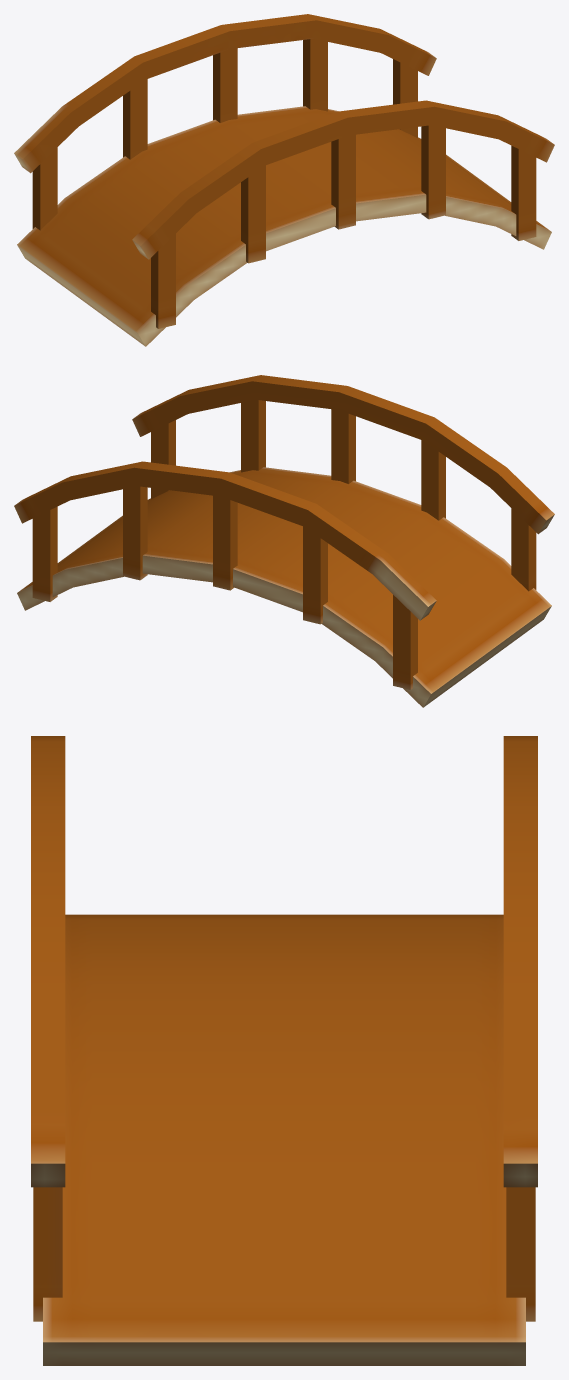
The model's file is kit-footbridge.glb.
3 views of the same model, one above another, from view 1: azimuth 30°, elevation 25°; view 2: azimuth 150°, elevation 25°; view 3: azimuth 270°, elevation 25° (orthographic). The views are drawn at different scales.
Parts seen in each view (by area): view 1: Cube.259; view 2: Cube.259; view 3: Cube.259.
Boxes of the visible parts, left/top/right/bottom form: Cube.259: left=14, top=14, right=554, bottom=346; Cube.259: left=14, top=375, right=554, bottom=707; Cube.259: left=31, top=736, right=537, bottom=1365.
Size of the model in its own units: 2.62 by 1.1 by 1.39.
1 material, 1 textured.
